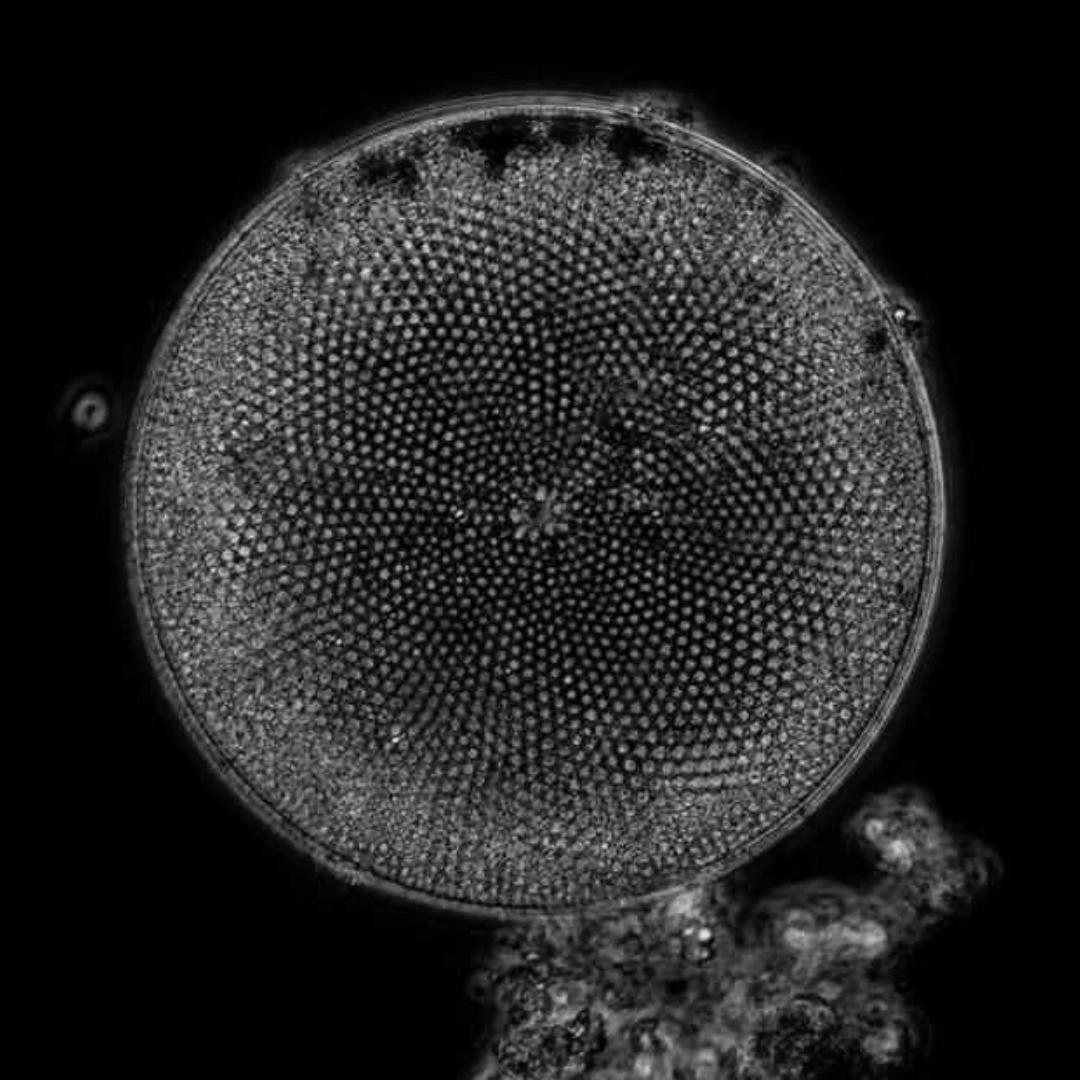coscinodiscus_oculus_iridis: (121, 99, 944, 917)
